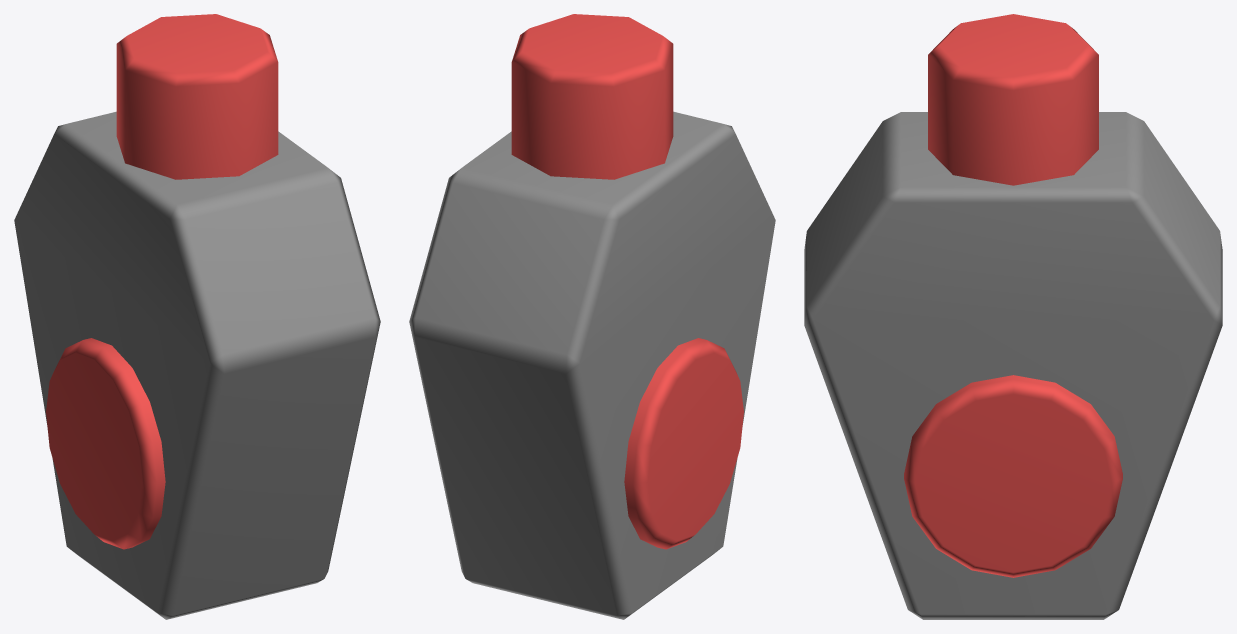
File: nipper_1_001.fbx
The picture shows the model from 3 angles, left to right: view 1: azimuth 30°, elevation 25°; view 2: azimuth 150°, elevation 25°; view 3: azimuth 270°, elevation 25°; orthographic projection. The views are drawn at different scales.
Parts seen in each view (by area): view 1: nipper_1_001; view 2: nipper_1_001; view 3: nipper_1_001.
Boxes of the visible parts, box(x1,y1,x2,y2) form: nipper_1_001: box(14, 14, 380, 619); nipper_1_001: box(409, 14, 775, 619); nipper_1_001: box(804, 14, 1222, 619).
Bounding box in the file's own units: 179 × 307 × 435.
